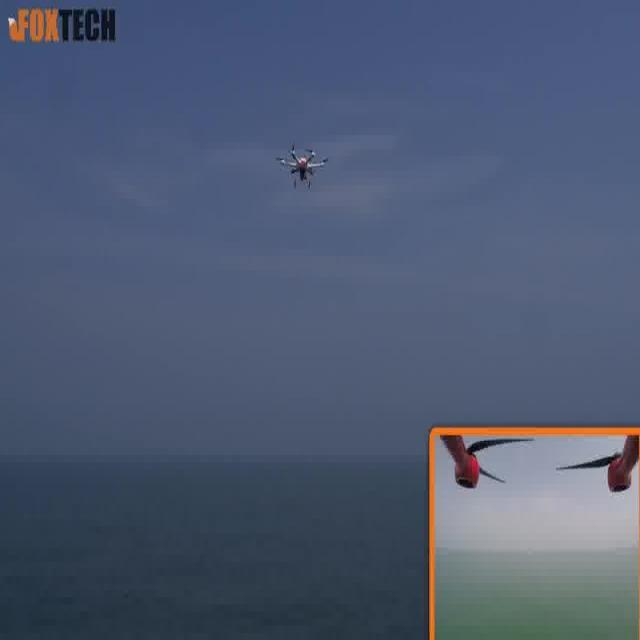drone: (271, 132, 333, 196)
